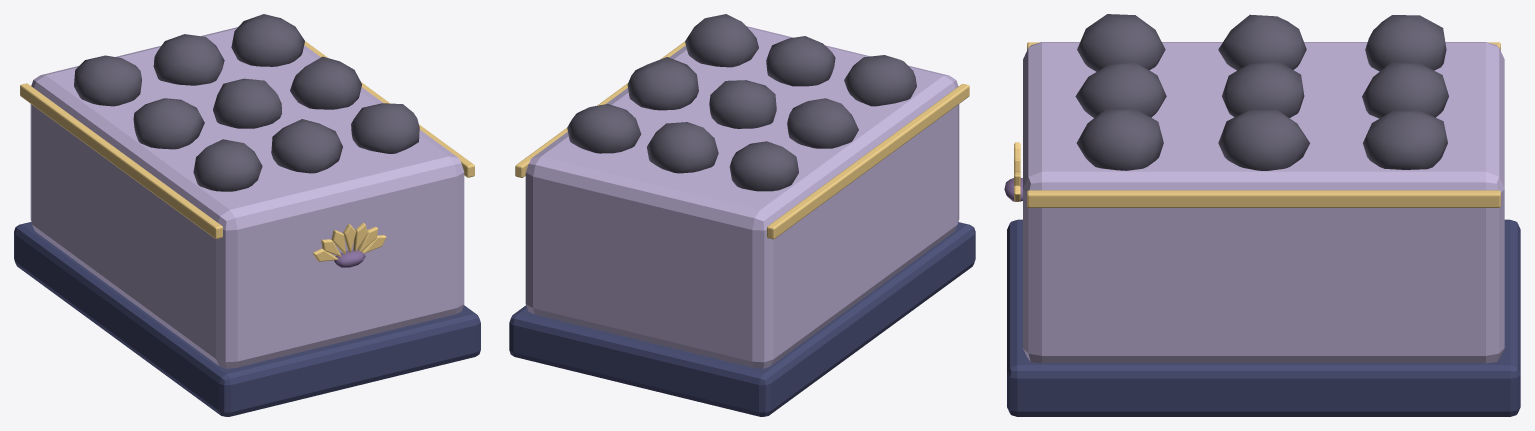
File: lagoon_train_tender.glb
The picture shows the model from 3 angles, left to right: view 1: azimuth 30°, elevation 25°; view 2: azimuth 150°, elevation 25°; view 3: azimuth 270°, elevation 25°; orthographic projection. The views are drawn at different scales.
Parts seen in each view (by area): view 1: lagoon_train_tender.001; view 2: lagoon_train_tender.001; view 3: lagoon_train_tender.001.
Part boxes in pixels (x1=…): lagoon_train_tender.001: x1=14, y1=14, x2=480, y2=416; lagoon_train_tender.001: x1=509, y1=14, x2=975, y2=416; lagoon_train_tender.001: x1=1004, y1=14, x2=1520, y2=416.
Size of the model in its own units: 4.6 by 3.91 by 6.53.
